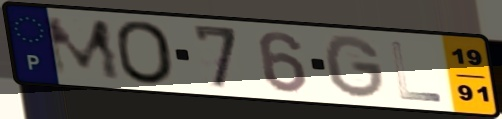6: (255, 29, 310, 95)
7: (190, 22, 241, 91)
G: (321, 33, 388, 102)
L: (388, 39, 445, 104)
M: (41, 16, 125, 82)
O: (112, 18, 179, 87)
